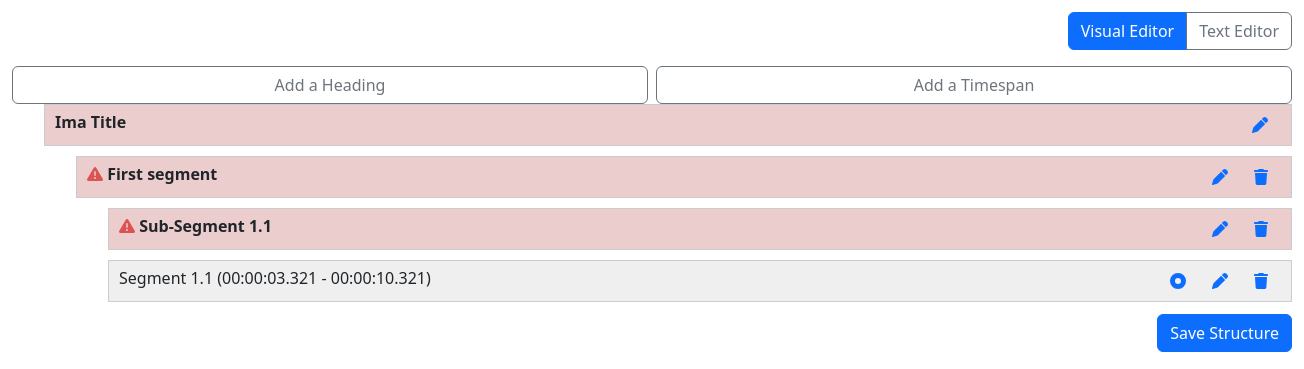
Test: StructureTabView component › with prop 'showTextEditor=true' › switches to text-editor when 'Text Editor' button is clicked
Click the button with test id "text-editor-button" at (1239, 31), box top-left (1186, 12), bottom-right (1292, 50)
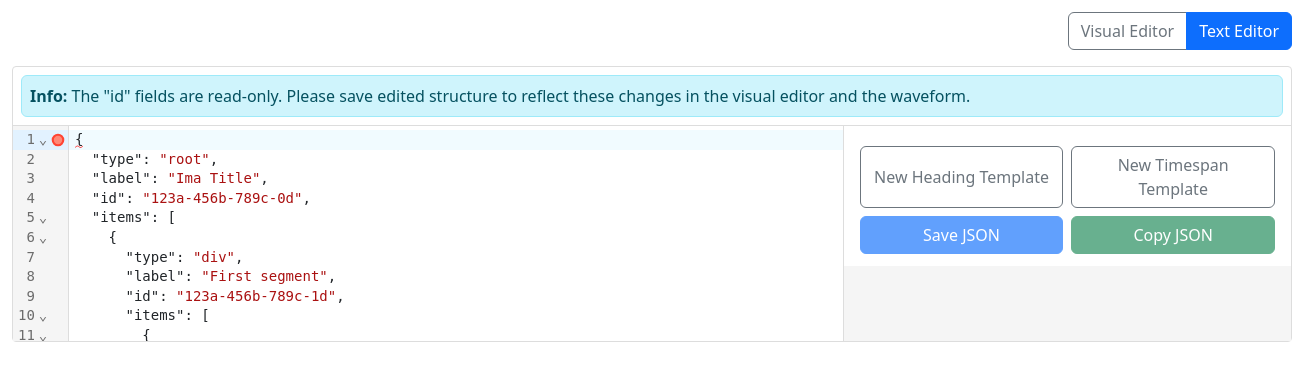
Now the element with test id "codemirror-editor" is shown, box top-left (13, 125), bottom-right (843, 341)
Now the element with test id "button-section" is gone
Now the element with test id "structure-output-section" is gone
